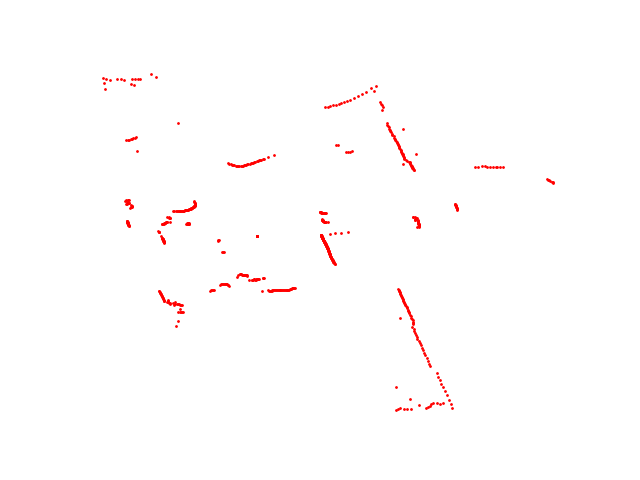person: (315, 208, 332, 228)
